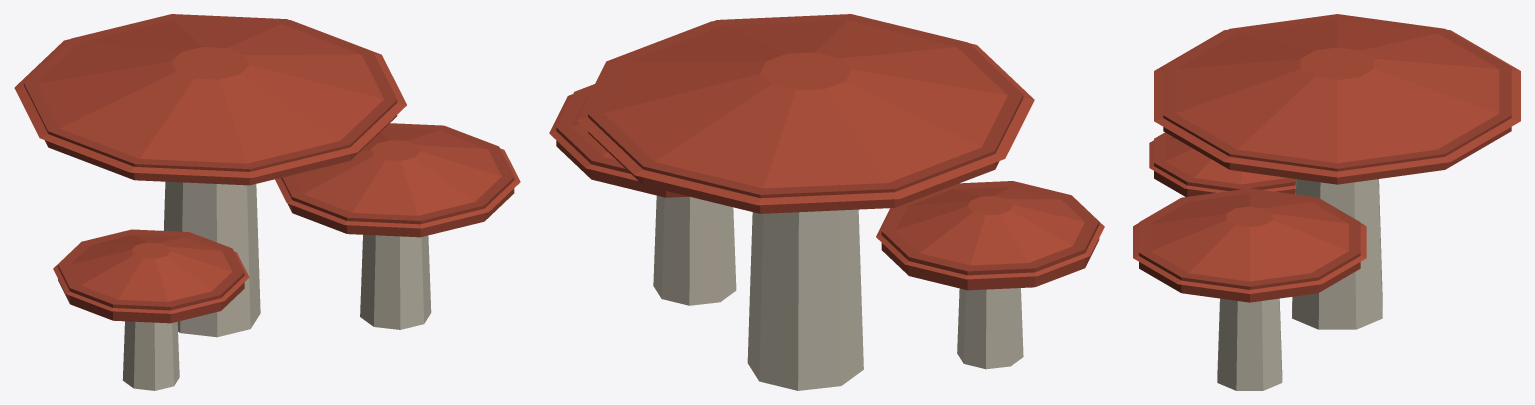
Rendered from Mushroom.glb.
3 renders of one model, left to right at view 1: azimuth 30°, elevation 25°; view 2: azimuth 150°, elevation 25°; view 3: azimuth 270°, elevation 25°, orthographic. The views are drawn at different scales.
Parts seen in each view (by area): view 1: Body; view 2: Body; view 3: Body.
Boxes of the visible parts, bbox=[...] form: Body: bbox=[14, 14, 520, 390]; Body: bbox=[549, 14, 1104, 390]; Body: bbox=[1133, 14, 1520, 390].
Size of the model in its own units: 2.85 by 1.55 by 2.21.
